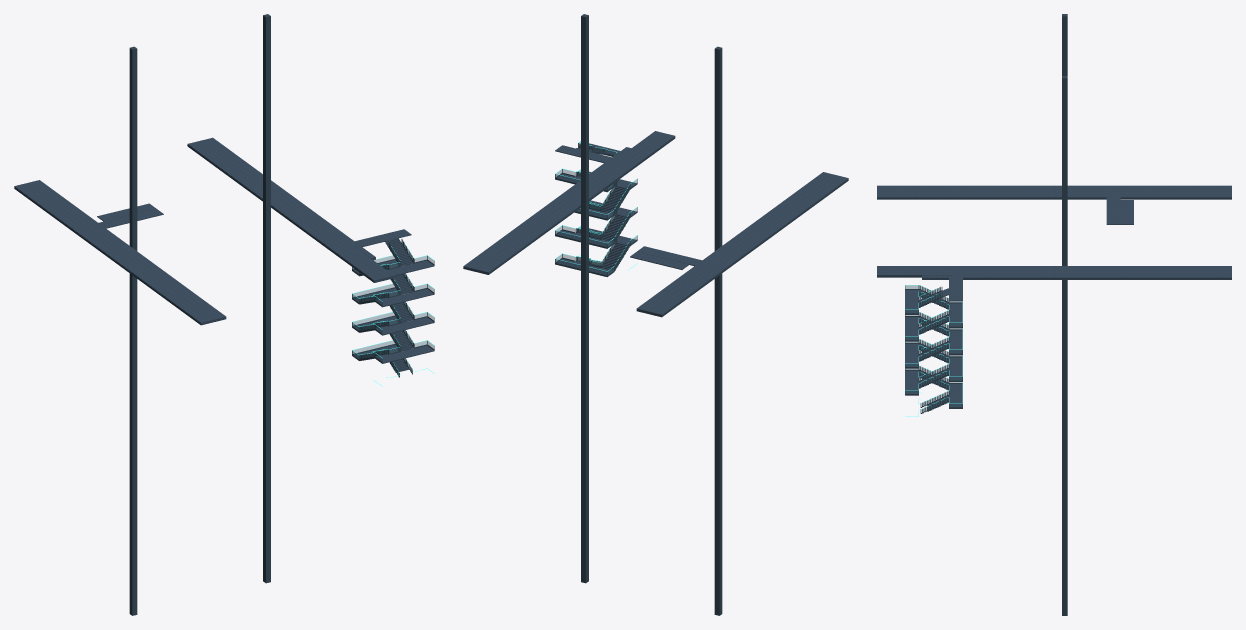
The model's file is v02-detailed-02-06-coffered.glb.
3 views of the same model, side by side, from view 1: azimuth 30°, elevation 25°; view 2: azimuth 150°, elevation 25°; view 3: azimuth 270°, elevation 25° (orthographic). The views are drawn at different scales.
Visible parts, largest first — view 1: v02-detailed-02-06-coffered; view 2: v02-detailed-02-06-coffered; view 3: v02-detailed-02-06-coffered.
Boxes of the visible parts, x1,y1,x2,y2 form: v02-detailed-02-06-coffered: (14, 14, 434, 615); v02-detailed-02-06-coffered: (463, 14, 848, 615); v02-detailed-02-06-coffered: (877, 14, 1231, 615).
Size of the model in its own units: 58.85 by 128 by 76.5.
Materials: 5 (1 with a texture image).
